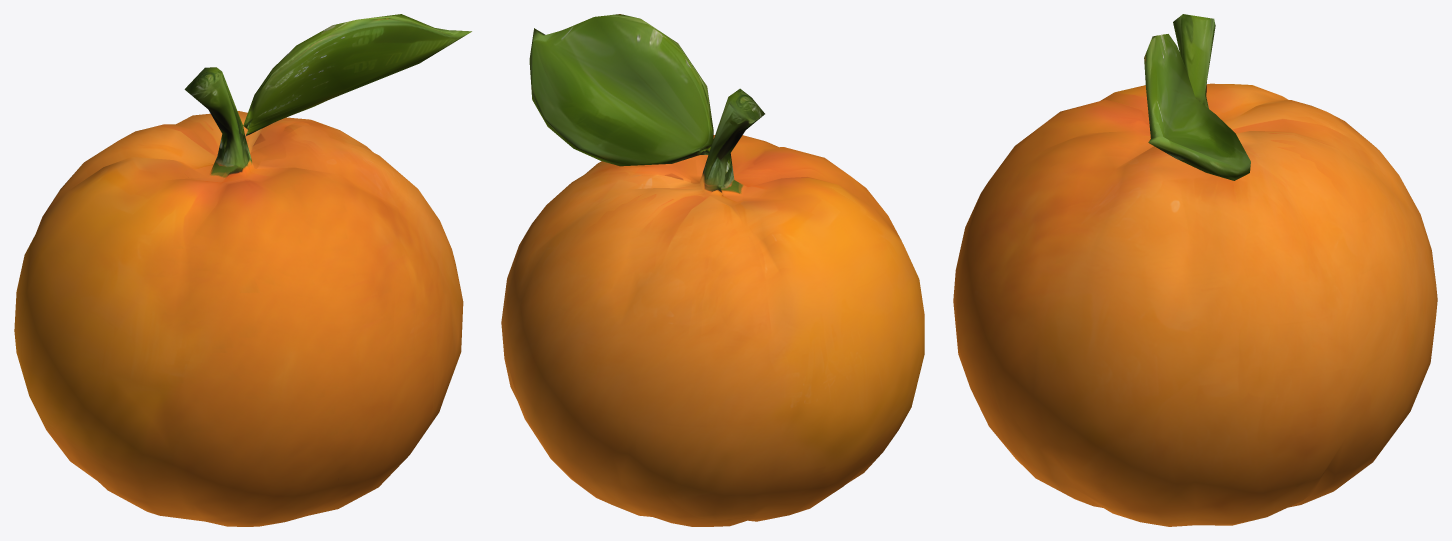
Rendered from orange.fbx.
The picture shows the model from 3 angles, left to right: view 1: azimuth 30°, elevation 25°; view 2: azimuth 150°, elevation 25°; view 3: azimuth 270°, elevation 25°; orthographic projection. The views are drawn at different scales.
Visible parts, largest first — view 1: orange; view 2: orange; view 3: orange.
Part boxes in pixels (left/top/right/bottom): orange: left=14, top=14, right=471, bottom=526; orange: left=501, top=14, right=924, bottom=526; orange: left=953, top=14, right=1437, bottom=526.
Bounding box in the file's own units: 5.45 × 6 × 5.21.
1 material, 1 textured.
